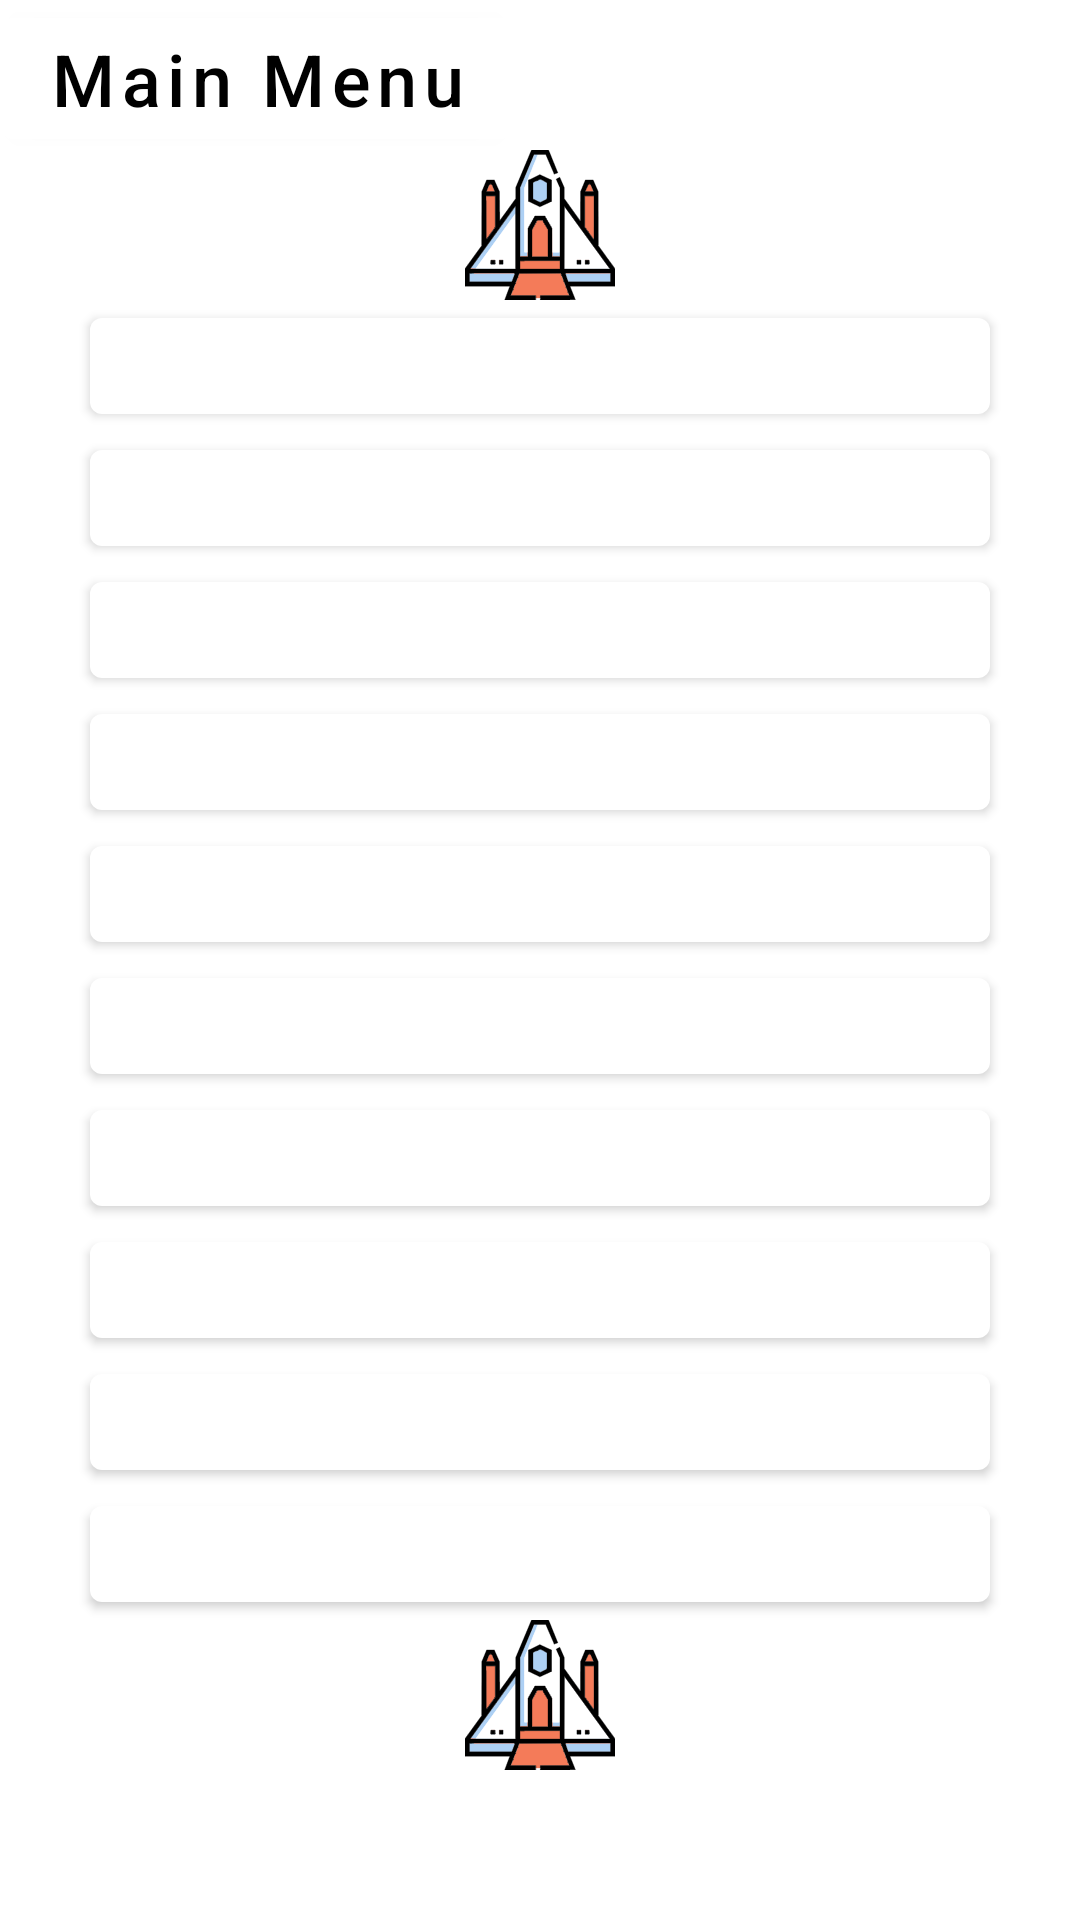

Screen size 1080×1920. Icon name, then its box in pixels as (x1,y1,x2,y2):
spaceship: (465,150,615,300), (465,1620,615,1770)
